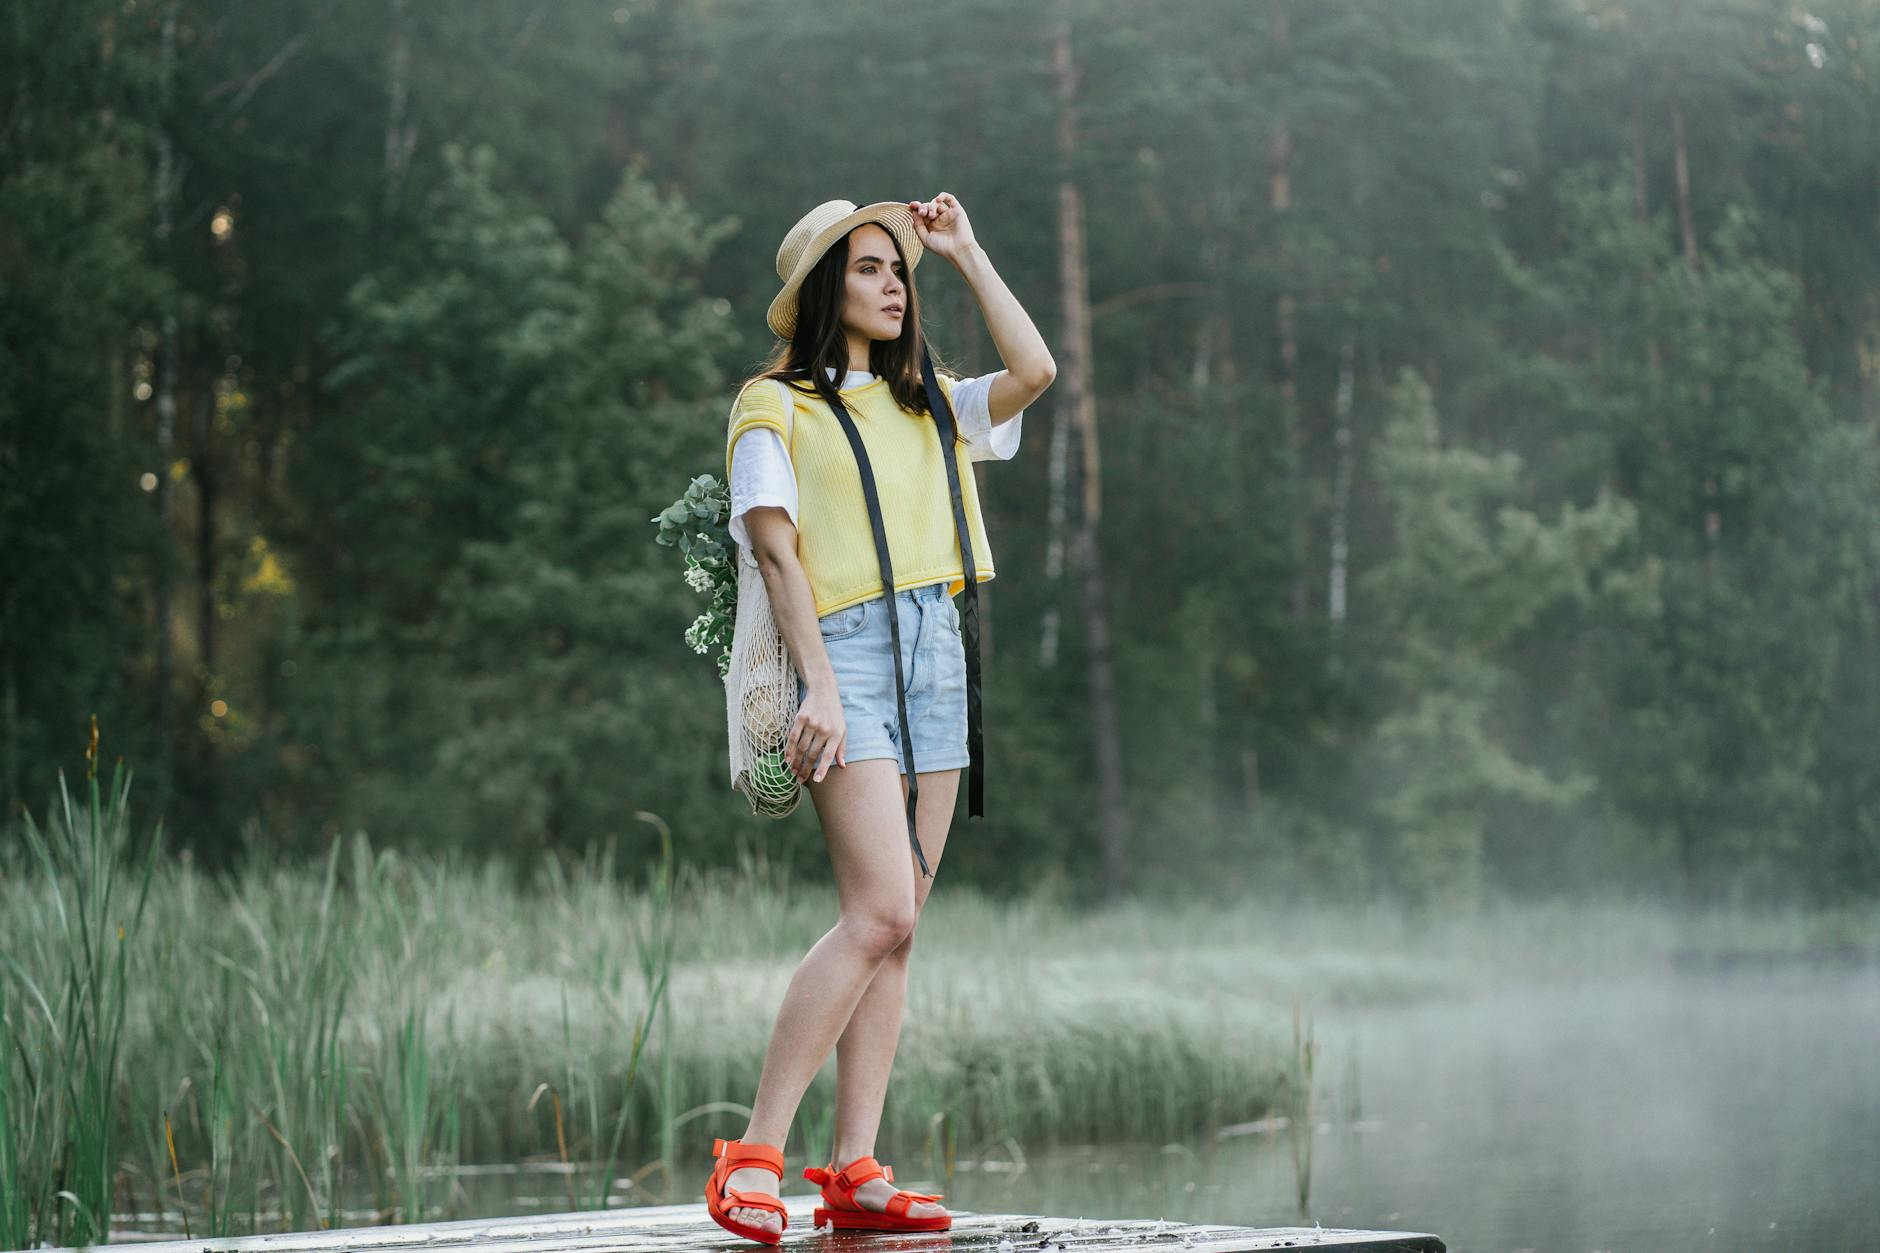opened_foot: (815, 1158, 963, 1236), (696, 1140, 798, 1246)
shorts: (742, 579, 988, 776)
